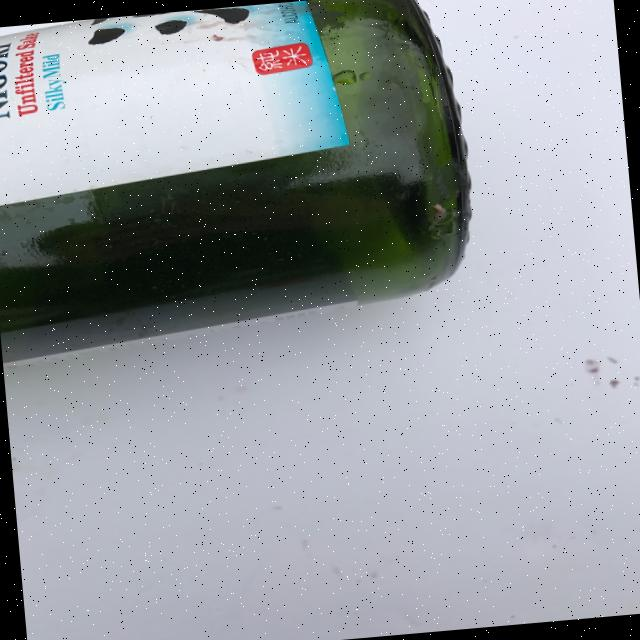glass: (0, 0, 483, 366)
